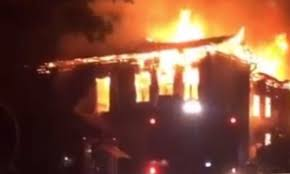fire: (85, 15, 286, 110)
